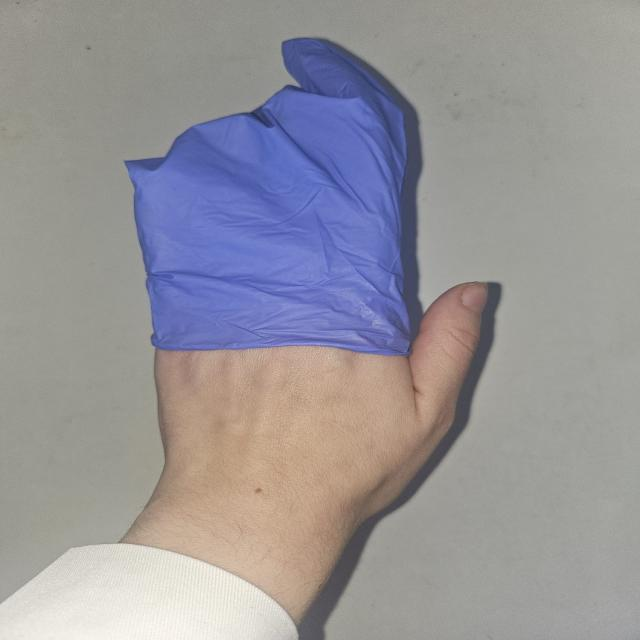glove_partial: (121, 36, 492, 518)
